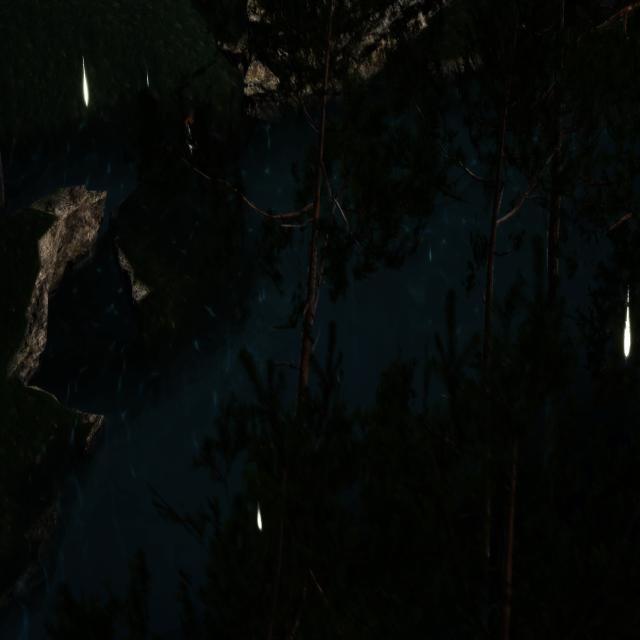Human: (182, 116, 210, 177)
